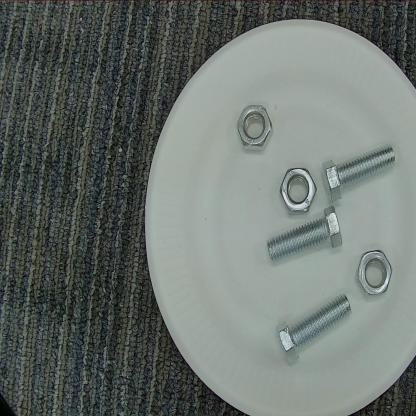FOD: (276, 290, 354, 364), (259, 205, 349, 266), (324, 140, 396, 202), (230, 100, 278, 158), (353, 243, 397, 303), (280, 164, 317, 218)
